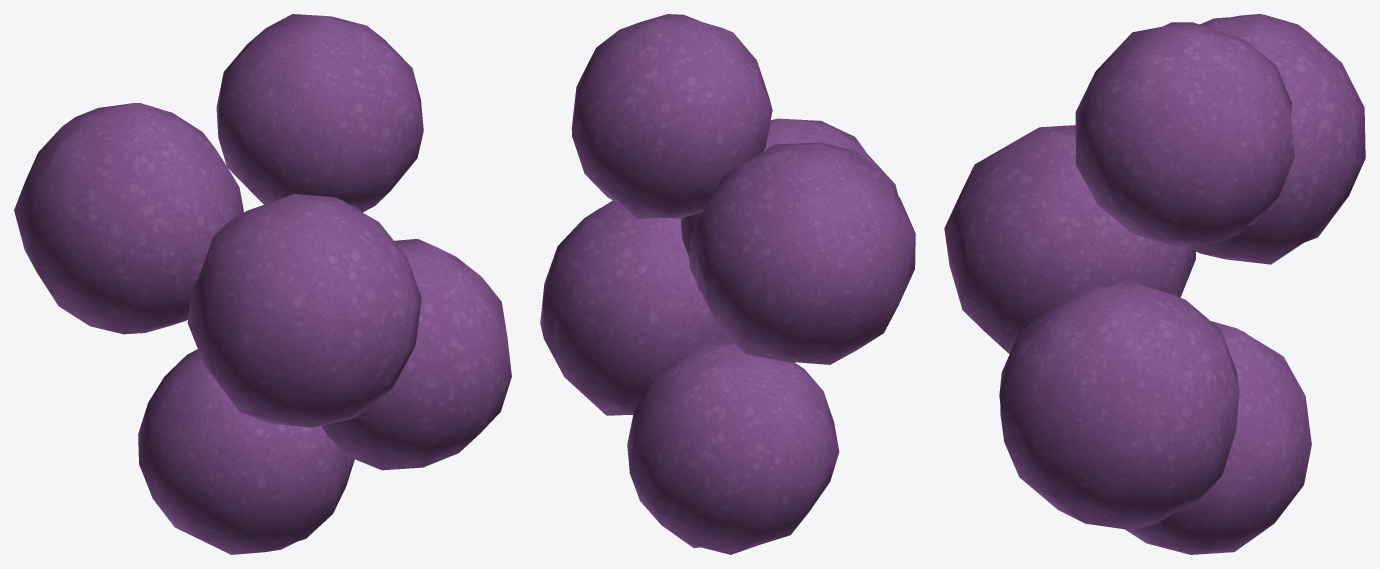
Rendered from Bakterija3Staphylo.fbx.
3 views of the same model, side by side, from view 1: azimuth 30°, elevation 25°; view 2: azimuth 150°, elevation 25°; view 3: azimuth 270°, elevation 25° (orthographic). The views are drawn at different scales.
Parts seen in each view (by area): view 1: Staphylococcus; view 2: Staphylococcus; view 3: Staphylococcus.
Boxes of the visible parts, x1,y1,x2,y2 form: Staphylococcus: (14,14,511,554); Staphylococcus: (540,14,915,554); Staphylococcus: (944,14,1365,554).
Size of the model in its own units: 216 by 262 by 182.
